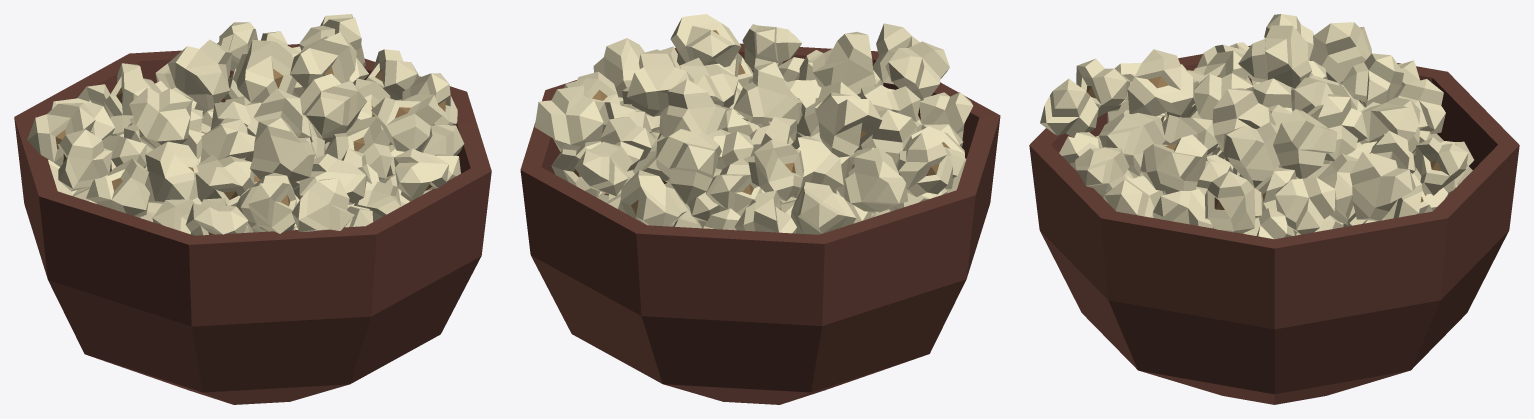
The model's file is PopCorn.fbx.
3 views of the same model, side by side, from view 1: azimuth 30°, elevation 25°; view 2: azimuth 150°, elevation 25°; view 3: azimuth 270°, elevation 25° (orthographic).
Visible parts, largest first — view 1: Pop_Corn; view 2: Pop_Corn; view 3: Pop_Corn.
Boxes of the visible parts, x1,y1,x2,y2 form: Pop_Corn: (14,14,491,404); Pop_Corn: (520,14,1000,404); Pop_Corn: (1029,14,1519,404).
Bounding box in the file's own units: 2 × 1.37 × 2.
